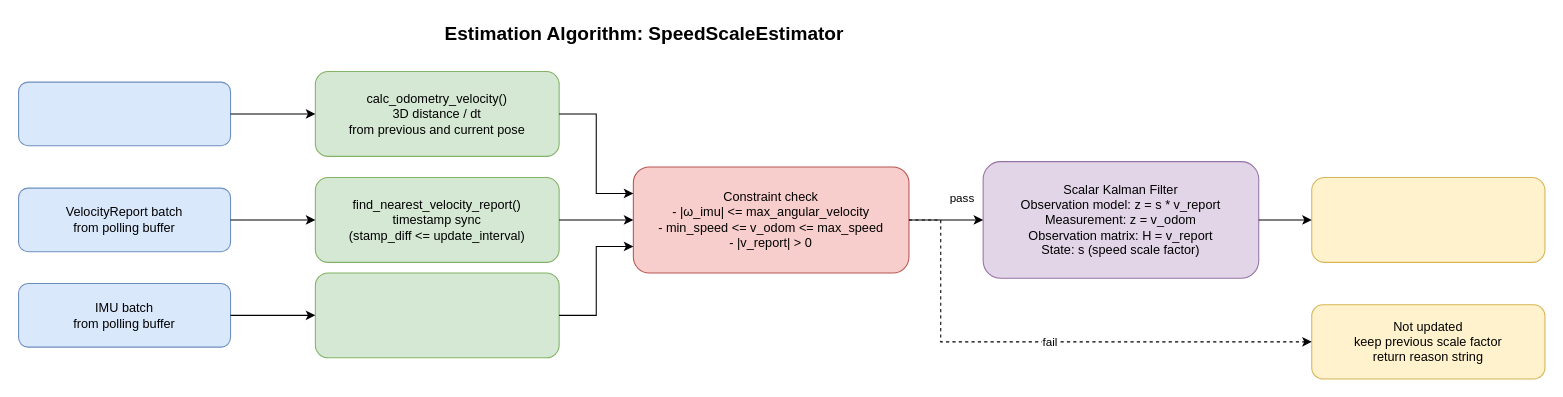
Image size: 1563x397. Some labels were removed from this diagram. The shapes that lost their labels are listed below. From the top down, each one's centre as x and y in pixels, then its label:
the point at 124,113: Pose (current / previous) from polling buffer
the point at 1428,219: Updated result estimated_speed_scale_factor covariance, K, v_odom, v_report
the point at 436,315: find_nearest_imu() timestamp sync (stamp_diff <= update_interval)
